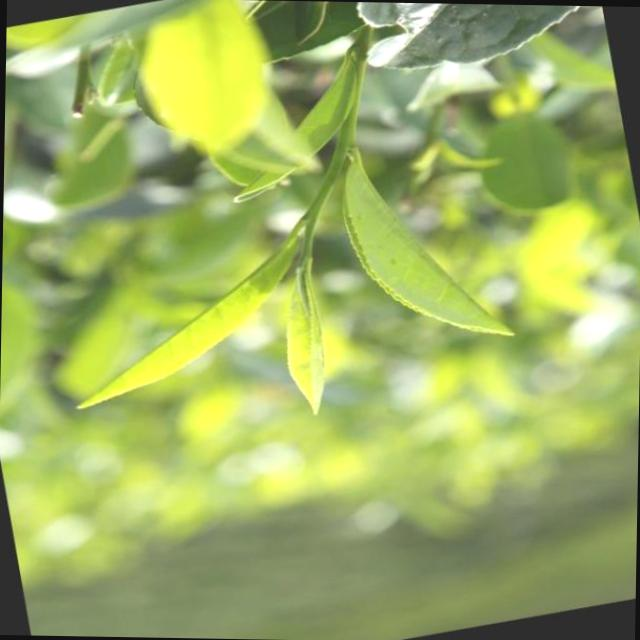Stem: (302, 200, 322, 224)
